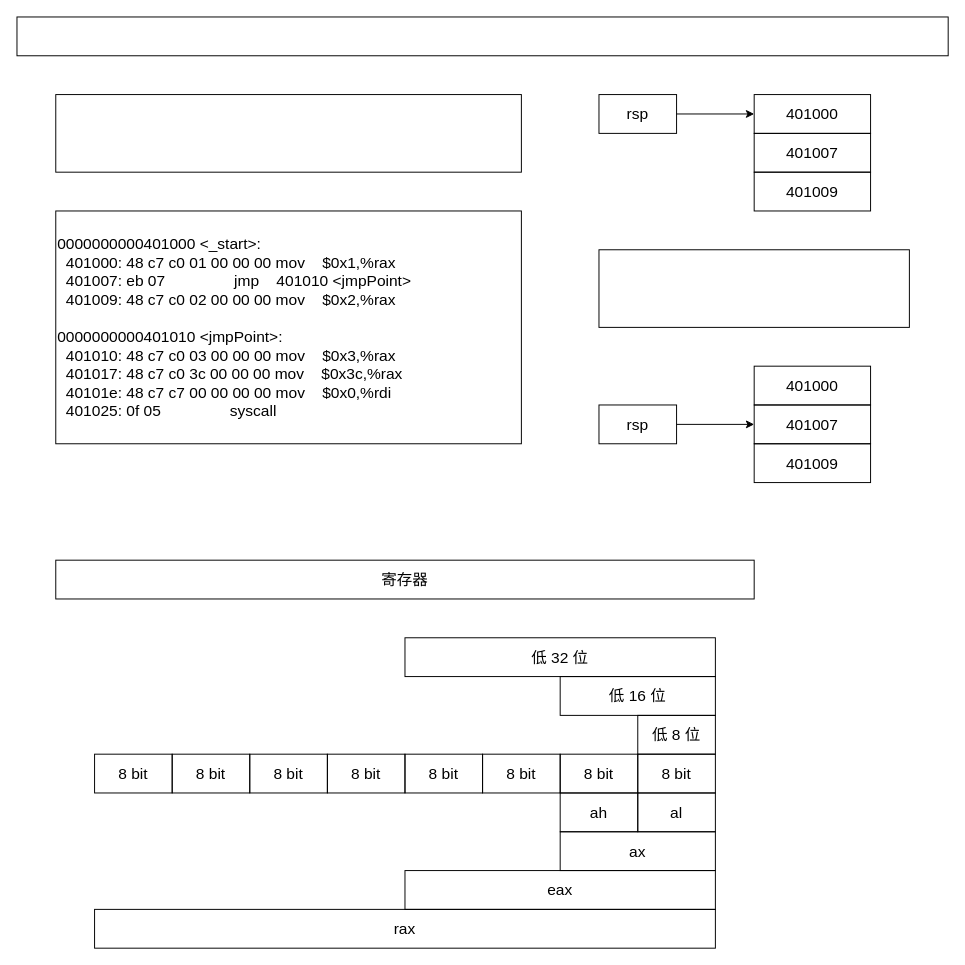
Some shapes in this 965 by 965 pixel diagram are drawn without their labels. The centre of each missing label's shape, as x and y in pixels:
ELF Header: Entry point address: 0x401000: the point at 288,133
rsp 是干什么的: the point at 482,36
执行 mov $0x1,%rax 后 rsp 移动到下一条要执行的指令的地址: the point at 753,288
